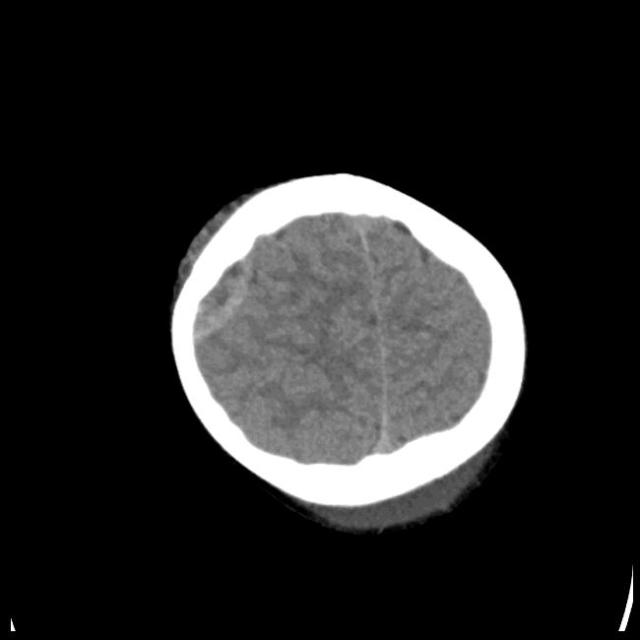lesion: (163, 165, 532, 538)
